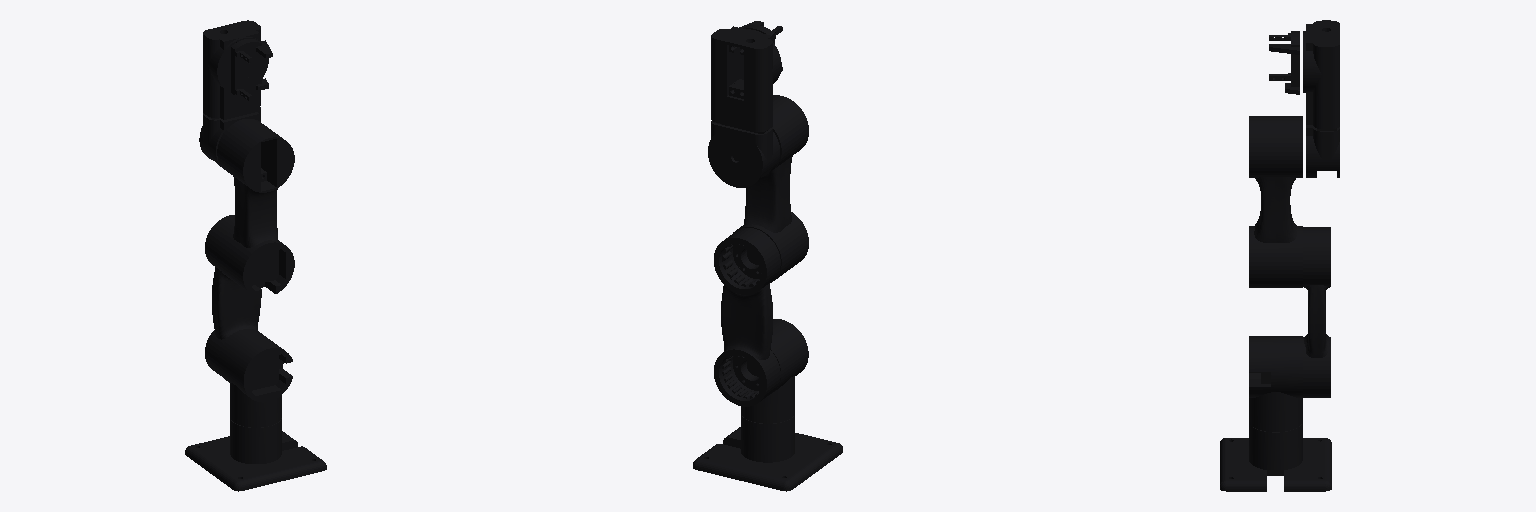
robot.urdf — robotic_arm:
<?xml version="1.0"?>
<!-- generated by description/tools/build_description.py from arm.json - do not edit -->
<robot name="robotic_arm">
  <material name="printed"><color rgba="0.12 0.12 0.13 1"/></material>
  <link name="base_link">
    <inertial><origin xyz="-0.00112487 7.86279e-06 0.0179175" rpy="0 0 0"/><mass value="0.9000"/>
      <inertia ixx="9.364e-04" ixy="3.280e-07" ixz="-1.325e-05" iyy="8.923e-04" iyz="9.116e-08" izz="1.308e-03"/></inertial>
    <visual><geometry><mesh filename="meshes/base_link.stl" scale="0.001 0.001 0.001"/></geometry><material name="printed"/></visual>
    <collision><geometry><mesh filename="meshes/base_link.stl" scale="0.001 0.001 0.001"/></geometry></collision>
  </link>
  <link name="turret">
    <inertial><origin xyz="-0.000588497 0.0035119 0.0480425" rpy="0 0 0"/><mass value="0.5500"/>
      <inertia ixx="4.194e-04" ixy="-6.654e-06" ixz="2.624e-06" iyy="4.351e-04" iyz="-1.566e-05" izz="2.937e-04"/></inertial>
    <visual><geometry><mesh filename="meshes/turret.stl" scale="0.001 0.001 0.001"/></geometry><material name="printed"/></visual>
    <collision><geometry><mesh filename="meshes/turret.stl" scale="0.001 0.001 0.001"/></geometry></collision>
  </link>
  <link name="upper_arm">
    <inertial><origin xyz="-4.55631e-05 0.0439999 0.0654363" rpy="0 0 0"/><mass value="0.2000"/>
      <inertia ixx="5.315e-04" ixy="1.693e-10" ixz="-7.282e-08" iyy="5.896e-04" iyz="-5.582e-10" izz="7.739e-05"/></inertial>
    <visual><geometry><mesh filename="meshes/upper_arm.stl" scale="0.001 0.001 0.001"/></geometry><material name="printed"/></visual>
    <collision><geometry><mesh filename="meshes/upper_arm.stl" scale="0.001 0.001 0.001"/></geometry></collision>
  </link>
  <link name="forearm">
    <inertial><origin xyz="3.90796e-08 0.00196513 0.0595676" rpy="0 0 0"/><mass value="0.4500"/>
      <inertia ixx="1.671e-03" ixy="2.470e-10" ixz="6.138e-10" iyy="1.703e-03" iyz="4.822e-05" izz="2.361e-04"/></inertial>
    <visual><geometry><mesh filename="meshes/forearm.stl" scale="0.001 0.001 0.001"/></geometry><material name="printed"/></visual>
    <collision><geometry><mesh filename="meshes/forearm.stl" scale="0.001 0.001 0.001"/></geometry></collision>
  </link>
  <link name="wrist_pitch">
    <inertial><origin xyz="0.000587852 0.0470405 0.00308541" rpy="0 0 0"/><mass value="0.1000"/>
      <inertia ixx="4.499e-05" ixy="-4.385e-07" ixz="-3.466e-07" iyy="6.746e-05" iyz="-1.371e-06" izz="5.399e-05"/></inertial>
    <visual><geometry><mesh filename="meshes/wrist_pitch.stl" scale="0.001 0.001 0.001"/></geometry><material name="printed"/></visual>
    <collision><geometry><mesh filename="meshes/wrist_pitch.stl" scale="0.001 0.001 0.001"/></geometry></collision>
  </link>
  <link name="wrist_roll">
    <inertial><origin xyz="0.0103544 -0.00418236 0.0478018" rpy="0 0 0"/><mass value="0.1000"/>
      <inertia ixx="9.197e-05" ixy="-1.483e-07" ixz="2.239e-07" iyy="1.209e-04" iyz="1.620e-06" izz="5.238e-05"/></inertial>
    <visual><geometry><mesh filename="meshes/wrist_roll.stl" scale="0.001 0.001 0.001"/></geometry><material name="printed"/></visual>
    <collision><geometry><mesh filename="meshes/wrist_roll.stl" scale="0.001 0.001 0.001"/></geometry></collision>
  </link>
  <link name="tool_mount">
    <inertial><origin xyz="0.00138481 -0.0353588 -0.0097078" rpy="0 0 0"/><mass value="0.1500"/>
      <inertia ixx="6.206e-05" ixy="6.944e-07" ixz="-1.931e-06" iyy="7.622e-05" iyz="2.766e-06" izz="2.419e-05"/></inertial>
    <visual><geometry><mesh filename="meshes/tool_mount.stl" scale="0.001 0.001 0.001"/></geometry><material name="printed"/></visual>
    <collision><geometry><mesh filename="meshes/tool_mount.stl" scale="0.001 0.001 0.001"/></geometry></collision>
  </link>
  <joint name="J1" type="revolute">
    <parent link="base_link"/><child link="turret"/>
    <origin xyz="0 0 0.0625" rpy="0 0 0"/><axis xyz="0 0 1"/>
    <limit lower="-3.1416" upper="3.1416" effort="8.0" velocity="1.0"/>
  </joint>
  <joint name="J2" type="revolute">
    <parent link="turret"/><child link="upper_arm"/>
    <origin xyz="0 0 0.05615" rpy="0 0 0"/><axis xyz="0 1 0"/>
    <limit lower="-2.0944" upper="2.0944" effort="8.0" velocity="1.0"/>
  </joint>
  <joint name="J3" type="revolute">
    <parent link="upper_arm"/><child link="forearm"/>
    <origin xyz="0 0 0.13" rpy="0 0 0"/><axis xyz="0 1 0"/>
    <limit lower="-2.0944" upper="2.0944" effort="8.0" velocity="1.0"/>
  </joint>
  <joint name="J4" type="revolute">
    <parent link="forearm"/><child link="wrist_pitch"/>
    <origin xyz="0 0 0.13" rpy="0 0 0"/><axis xyz="0 1 0"/>
    <limit lower="-2.0944" upper="2.0944" effort="1.2" velocity="1.0"/>
  </joint>
  <joint name="J5" type="revolute">
    <parent link="wrist_pitch"/><child link="wrist_roll"/>
    <origin xyz="-0.01 0.0545 0.03495" rpy="0 0 0"/><axis xyz="0 0 1"/>
    <limit lower="-2.0944" upper="2.0944" effort="1.2" velocity="1.0"/>
  </joint>
  <joint name="J6" type="revolute">
    <parent link="wrist_roll"/><child link="tool_mount"/>
    <origin xyz="0.01 0 0.07505" rpy="0 0 0"/><axis xyz="0 1 0"/>
    <limit lower="-2.0944" upper="2.0944" effort="1.2" velocity="1.0"/>
  </joint>
  <link name="tcp"/>
  <joint name="tcp_fixed" type="fixed">
    <parent link="tool_mount"/><child link="tcp"/>
    <origin xyz="0.005 -0.045 0.11135" rpy="0 0 0"/>
  </joint>
</robot>

--- Facts derived from the render (not from the file) ---
3 views of the same robot in one strip: view 1: azimuth 30°, elevation 25°; view 2: azimuth 150°, elevation 25°; view 3: azimuth 270°, elevation 25° (orthographic).
Model robotic_arm with 8 links and 7 joints (6 revolute, 1 fixed), rooted at base_link, posed every joint at zero.
Visible links, largest first — view 1: forearm, base_link, turret, wrist_roll, upper_arm, tool_mount, wrist_pitch; view 2: upper_arm, base_link, forearm, wrist_roll, turret, wrist_pitch; view 3: forearm, base_link, turret, upper_arm, wrist_roll, wrist_pitch, tool_mount.
Boxes of the visible links, x1,y1,x2,y2 form: forearm: (217,119,294,297); base_link: (185,418,326,491); turret: (218,329,292,427); wrist_roll: (203,20,268,119); upper_arm: (205,215,260,375); tool_mount: (231,39,272,100); wrist_pitch: (199,107,260,166); upper_arm: (714,228,780,406); base_link: (693,415,842,491); forearm: (733,95,808,282); wrist_roll: (711,26,781,131); turret: (733,319,808,423); wrist_pitch: (708,121,779,187); forearm: (1249,116,1302,287); base_link: (1220,423,1331,491); turret: (1249,336,1302,431); upper_arm: (1303,227,1330,397); wrist_roll: (1303,20,1339,128); wrist_pitch: (1306,125,1339,177); tool_mount: (1269,31,1299,94).
Size in the robot's own frame: 0.12 by 0.129 by 0.5121 metres.
7 mesh visuals loaded from 7 distinct referenced files (7 binary STL).
